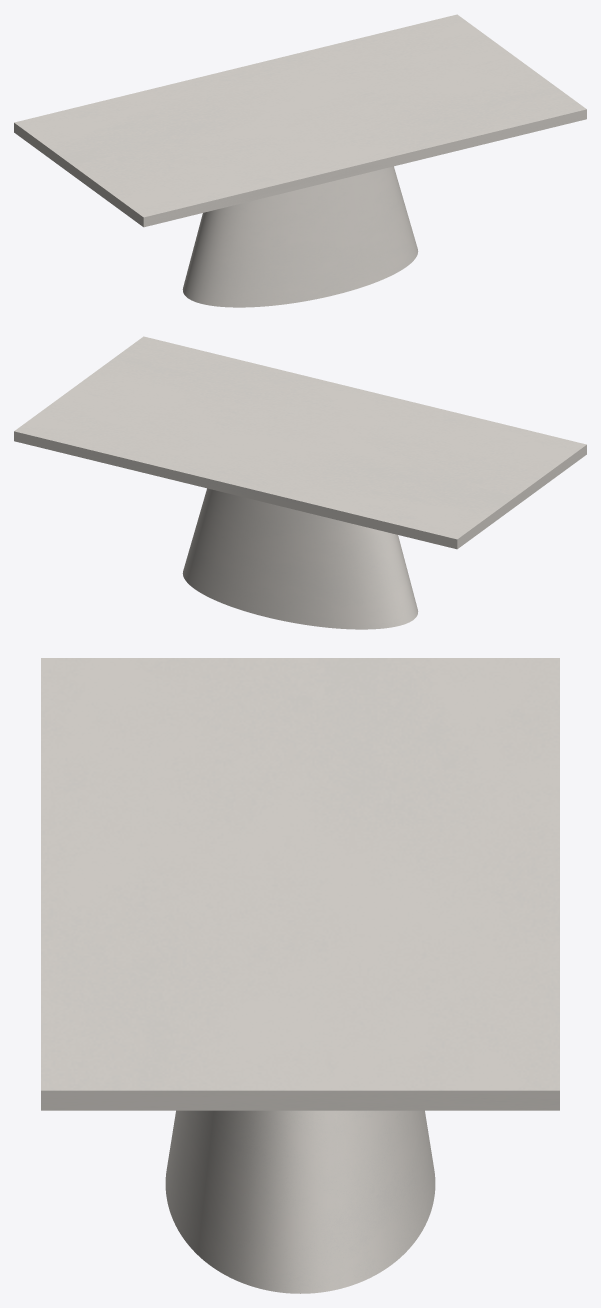
The model's file is pearlwhite_recta_standard_eqone.glb.
3 renders of one model, top to bottom at view 1: azimuth 30°, elevation 25°; view 2: azimuth 150°, elevation 25°; view 3: azimuth 270°, elevation 25°, orthographic. The views are drawn at different scales.
Parts seen in each view (by area): view 1: standard_recta, eqone; view 2: standard_recta, eqone; view 3: standard_recta, eqone.
Boxes of the visible parts, <box> form: standard_recta: <box>14,14,586,227</box>; eqone: <box>182,166,418,307</box>; standard_recta: <box>14,336,586,549</box>; eqone: <box>182,488,418,629</box>; standard_recta: <box>41,658,559,1110</box>; eqone: <box>165,1110,435,1293</box>.
Bounding box in the file's own units: 7.5 × 2.5 × 3.8.
1 material, 1 textured.
